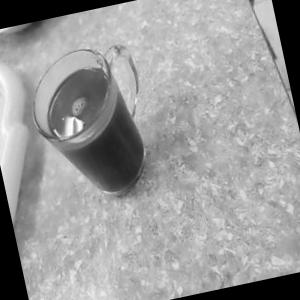coffee: (11, 30, 190, 218)
